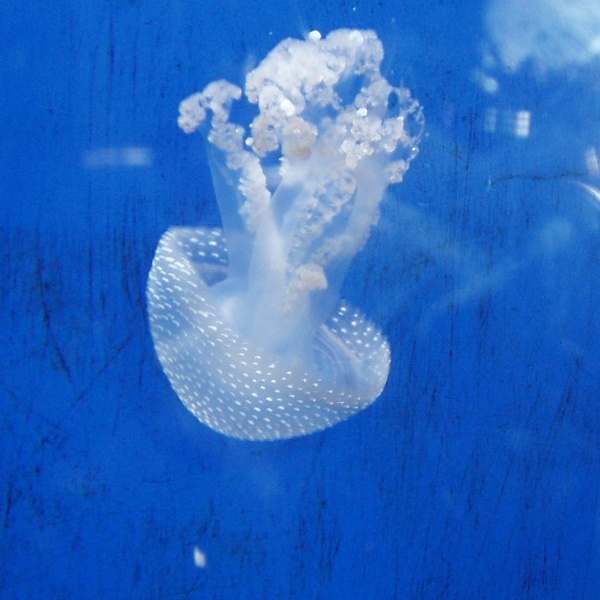Jellyfish: (142, 27, 425, 441)
